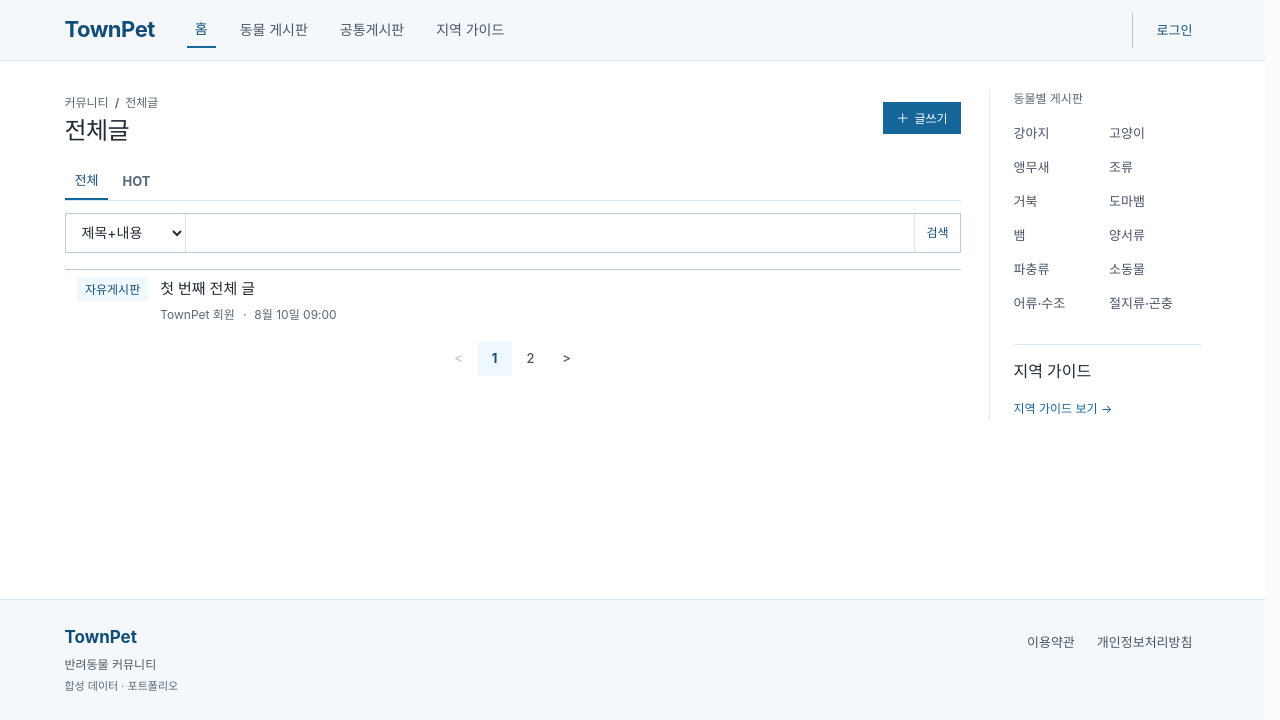
Test case: Publication feed journeys › loads the public feed and appends the stable-cursor page
Expected: the heading "전체글" is shown, [64,116,129,145]
Expected: the heading "첫 번째 전체 글" is shown, [160,279,254,298]
Click the button named "다음 페이지". click: [566, 359]
box: [550,342,584,376]
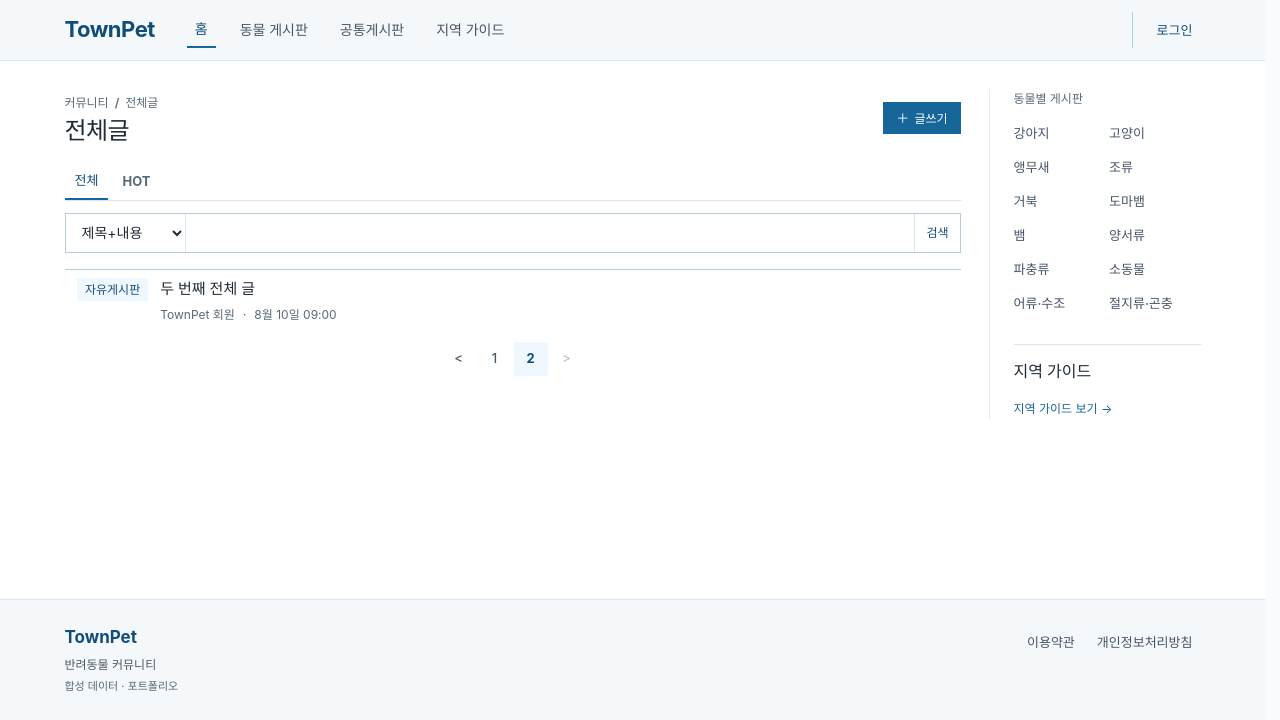
Expected: the heading "두 번째 전체 글" is shown, [160,279,254,298]
